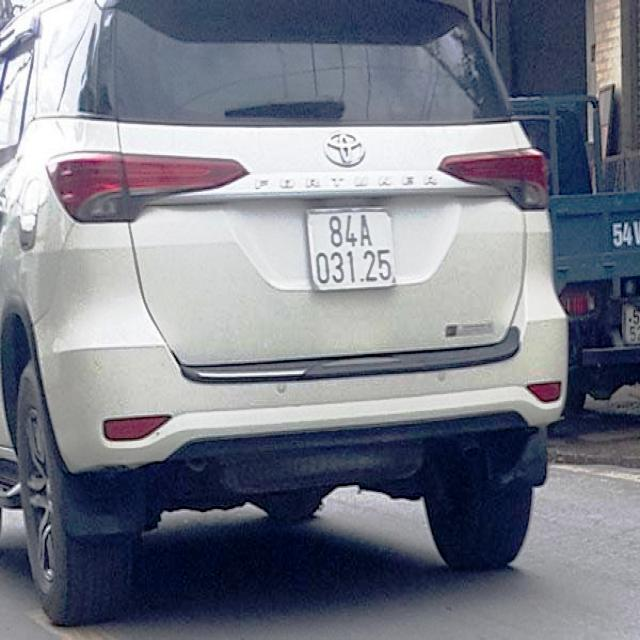license_plate: (309, 212, 398, 290)
